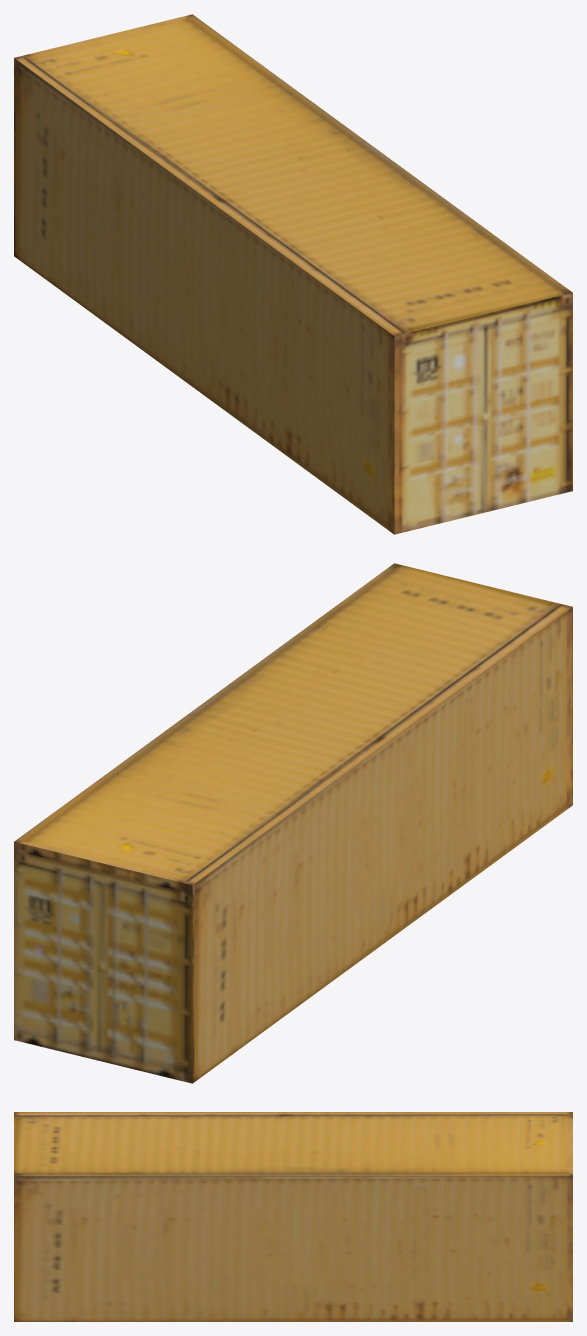
Rendered from container-2.fbx.
The picture shows the model from 3 angles, top to bottom: view 1: azimuth 30°, elevation 25°; view 2: azimuth 150°, elevation 25°; view 3: azimuth 270°, elevation 25°; orthographic projection. The views are drawn at different scales.
Visible parts, largest first — view 1: Cube; view 2: Cube; view 3: Cube.
Part boxes in pixels (x1,y1,x2,y2): Cube: [14, 14, 572, 534]; Cube: [14, 563, 572, 1083]; Cube: [14, 1112, 572, 1321].
Size of the model in its own units: 488 by 518 by 1800.
Materials: 1 (1 with a texture image).
